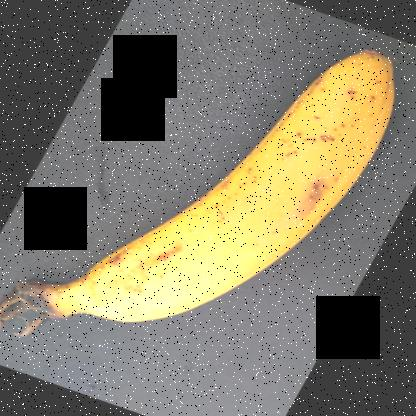ripe: (47, 27, 416, 339)
